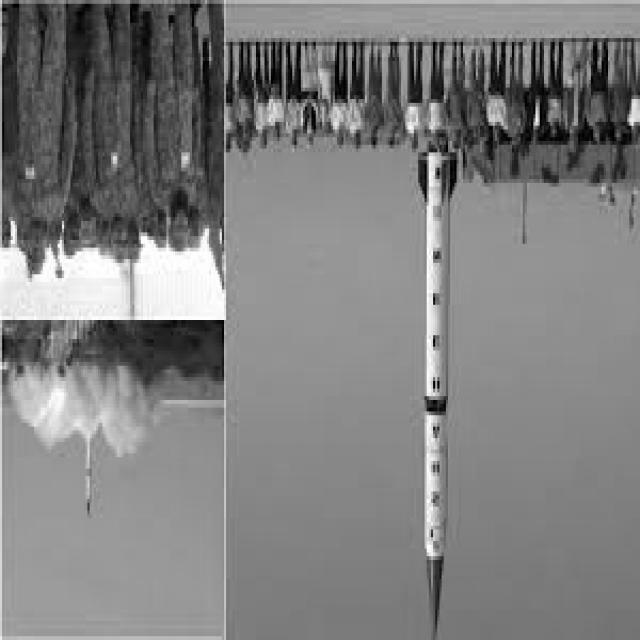missile: (417, 154, 452, 638), (84, 437, 95, 520)
